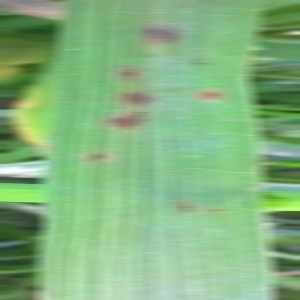Bacterial_Leaf_Blight: (138, 18, 195, 50), (107, 105, 155, 136), (120, 86, 163, 111), (111, 63, 143, 87), (85, 145, 112, 168), (197, 85, 224, 107), (175, 197, 196, 218), (208, 203, 223, 217)
